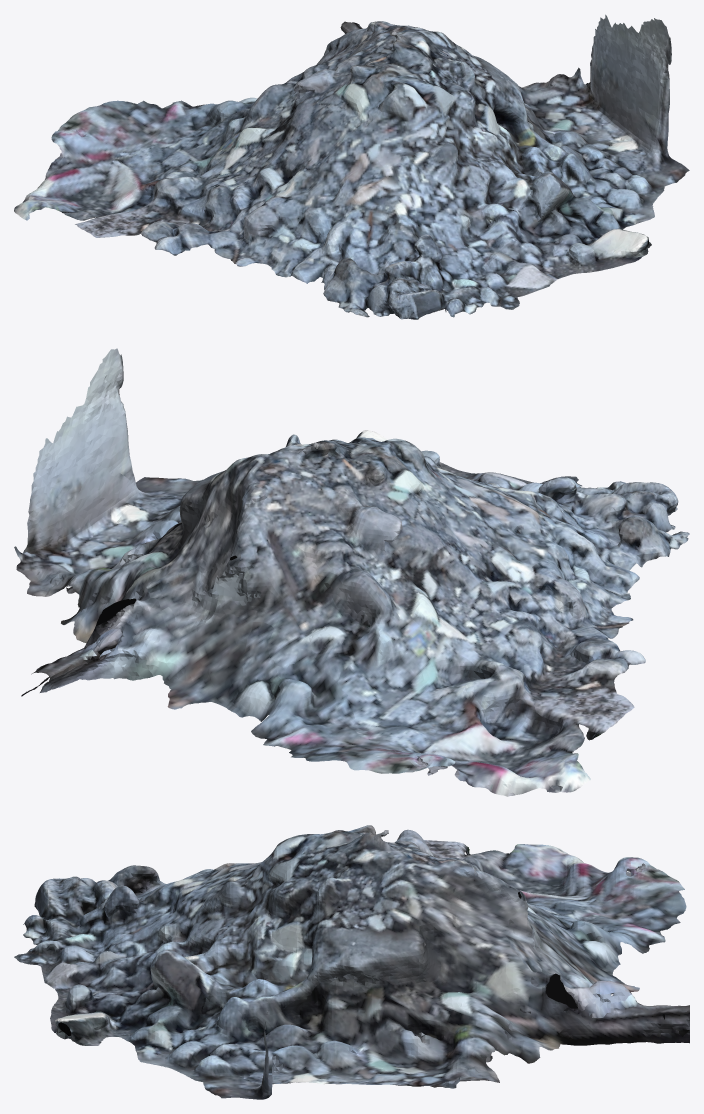
File: debris_concrete.glb
3 views of the same model, one above another, from view 1: azimuth 30°, elevation 25°; view 2: azimuth 150°, elevation 25°; view 3: azimuth 270°, elevation 25° (orthographic). The views are drawn at different scales.
Visible parts, largest first — view 1: cement debris_0; view 2: cement debris_0; view 3: cement debris_0.
Part boxes in pixels (left/top/right/bottom): cement debris_0: left=14, top=14, right=689, bottom=319; cement debris_0: left=14, top=348, right=689, bottom=796; cement debris_0: left=14, top=825, right=689, bottom=1099.
Size of the model in its own units: 2.41 by 0.7378 by 2.47.
Materials: 1 (1 with a texture image).
